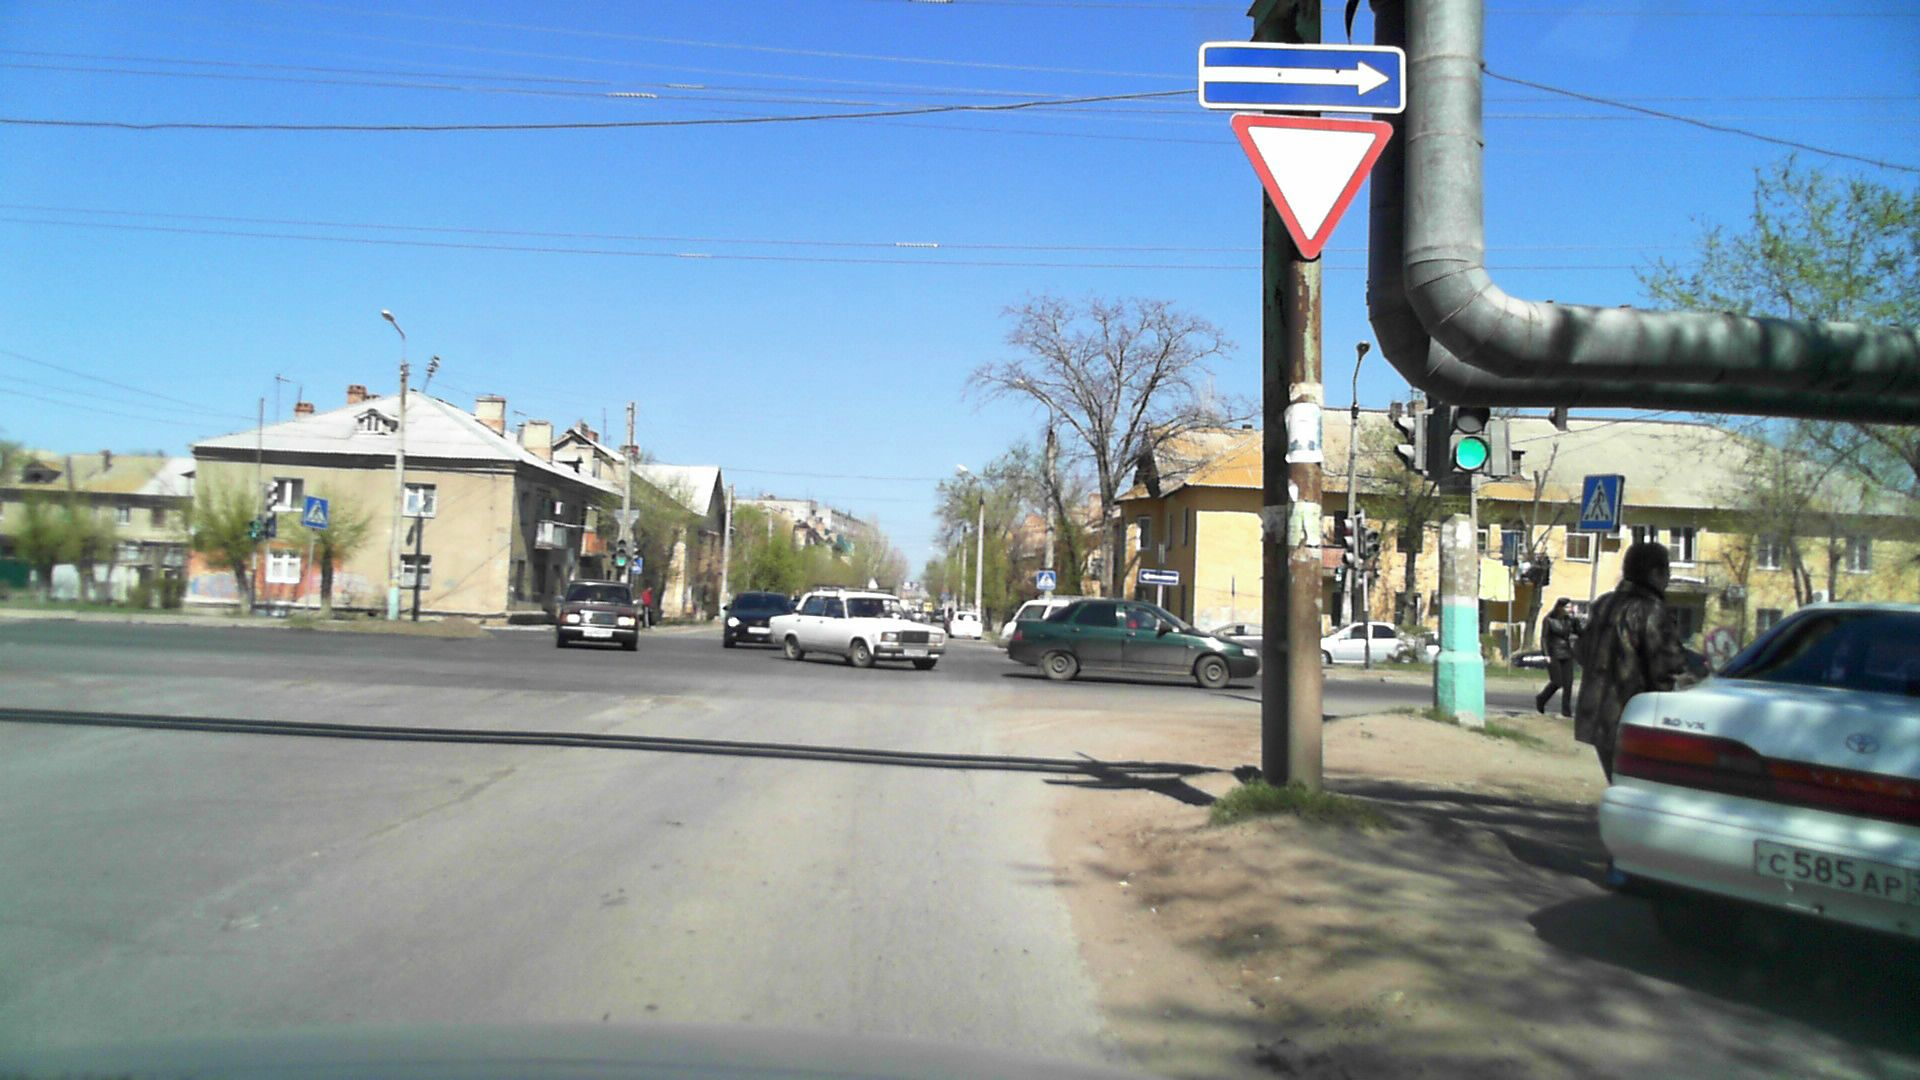One-Way Traffic: (1197, 42, 1406, 113), (1141, 570, 1179, 584)
